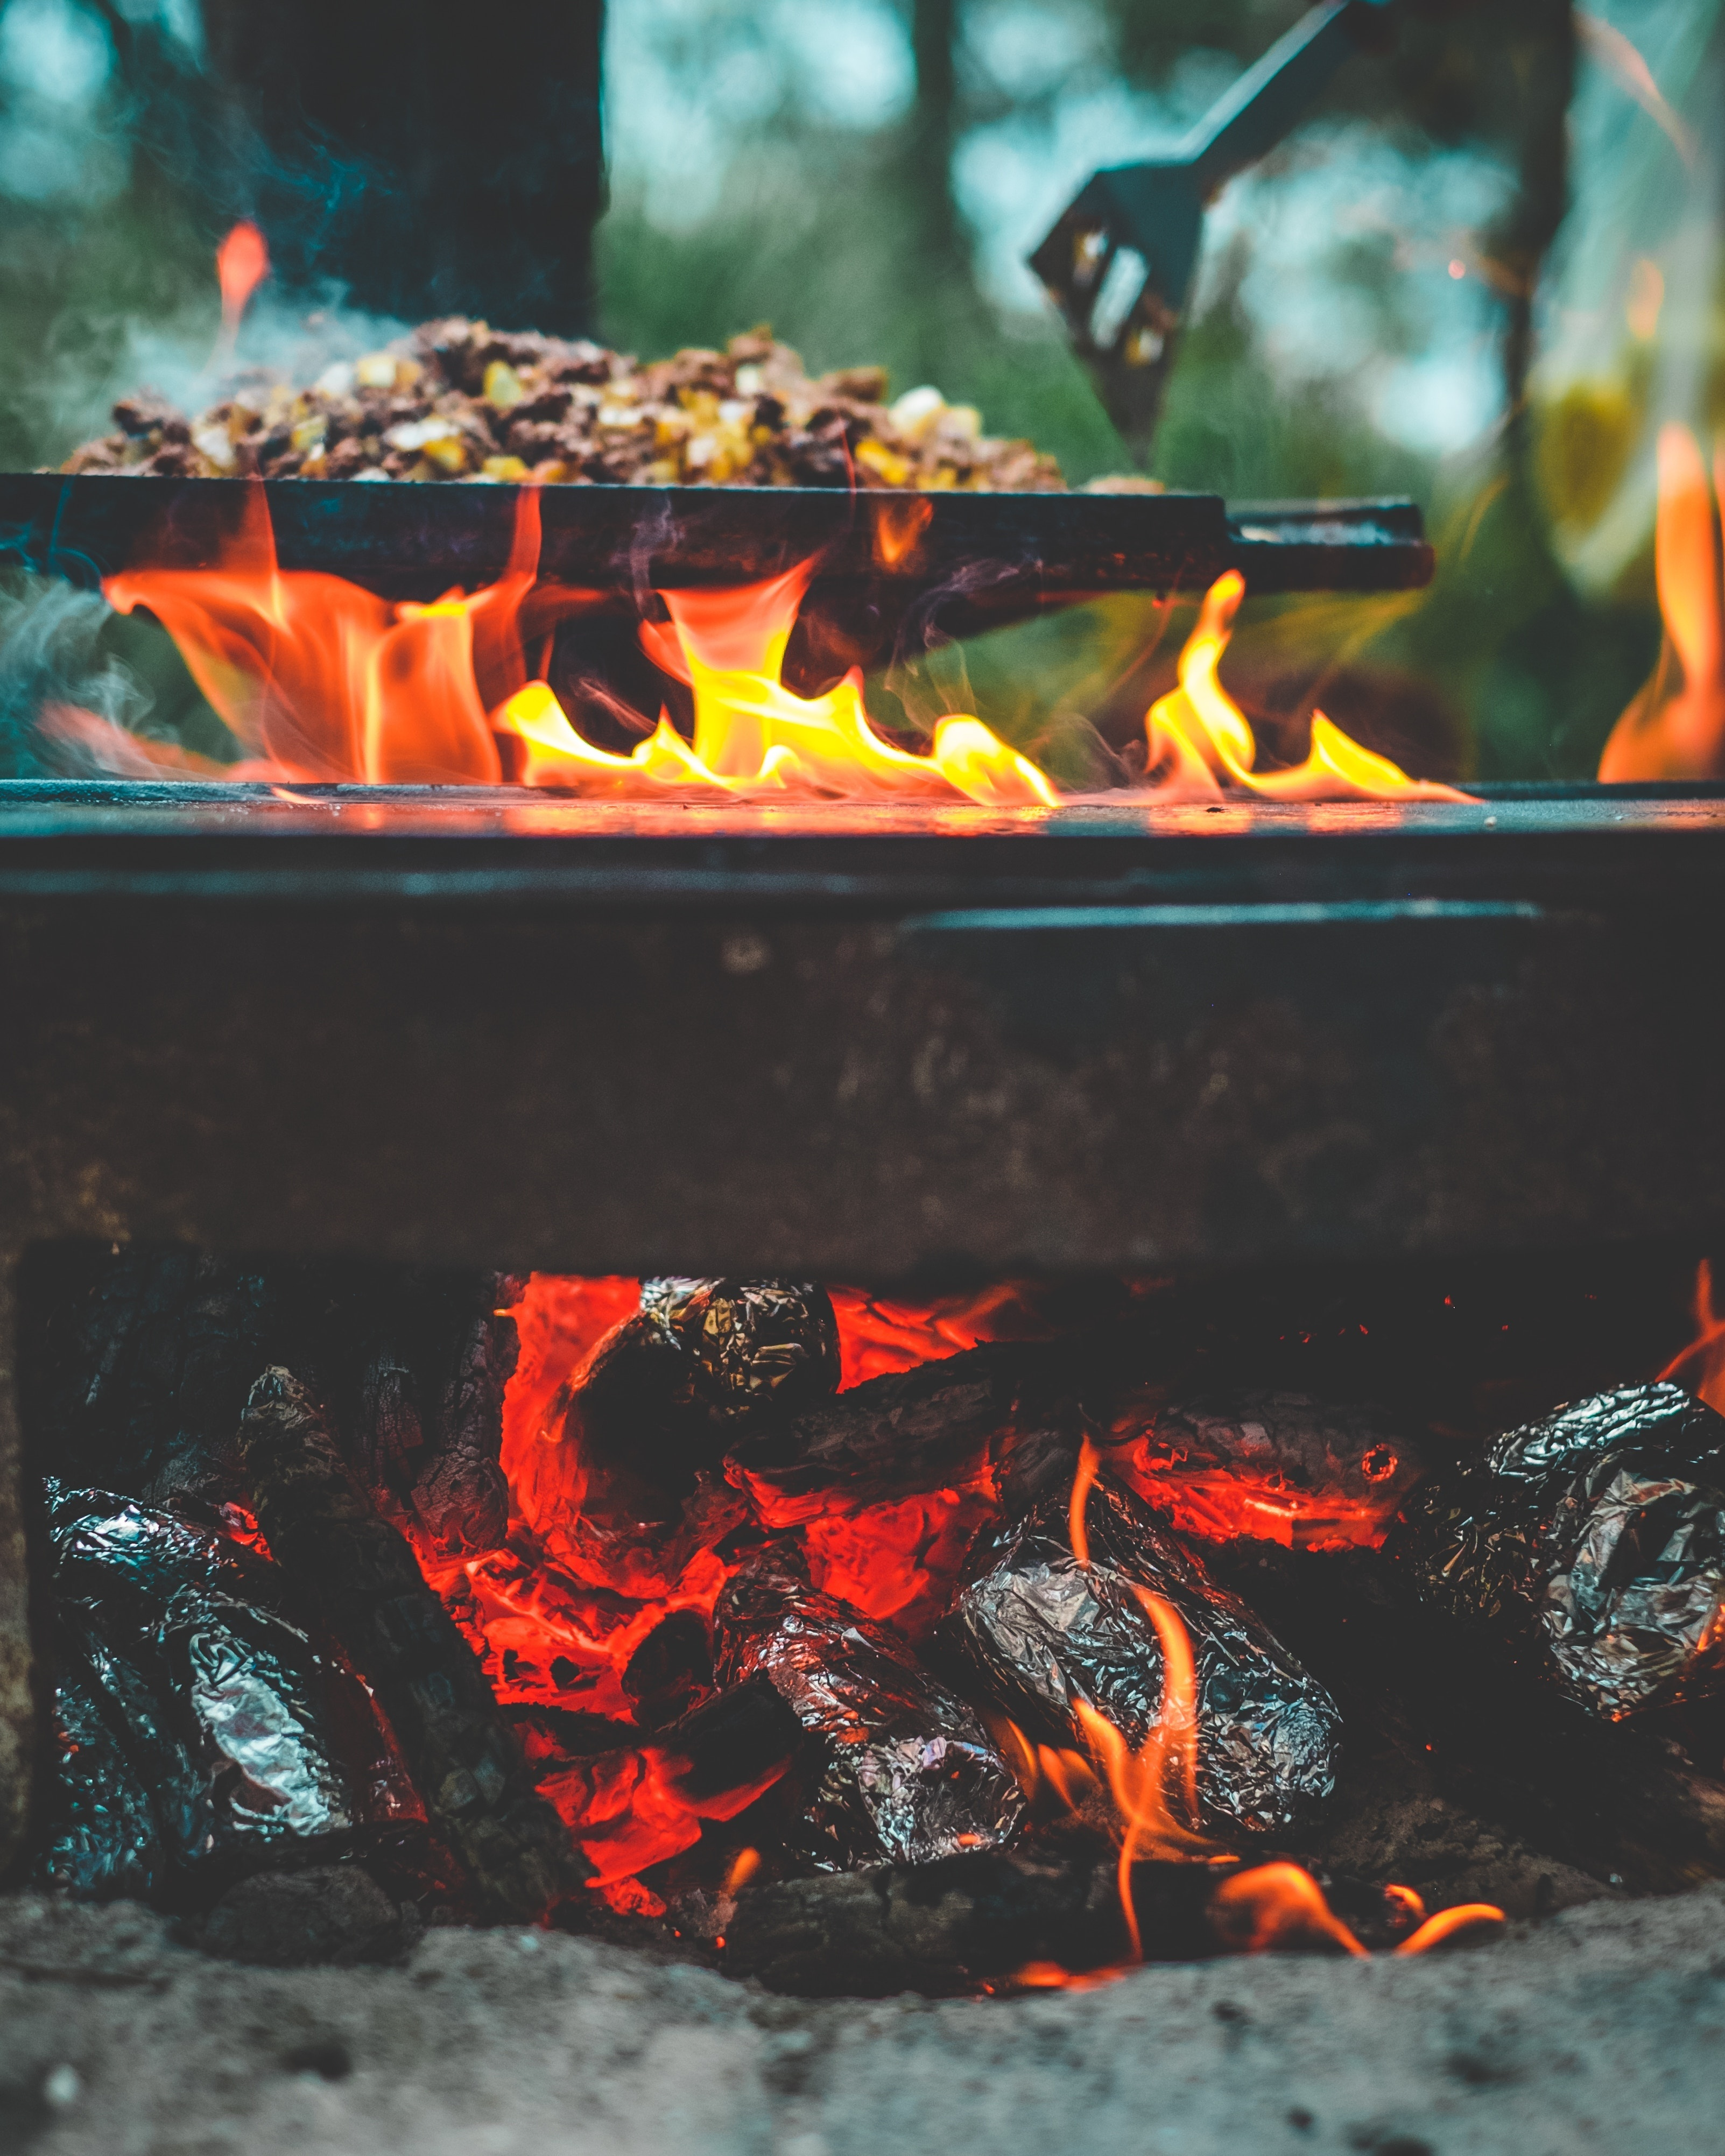fire: (378, 1260, 1428, 2003), (21, 500, 1375, 824)
